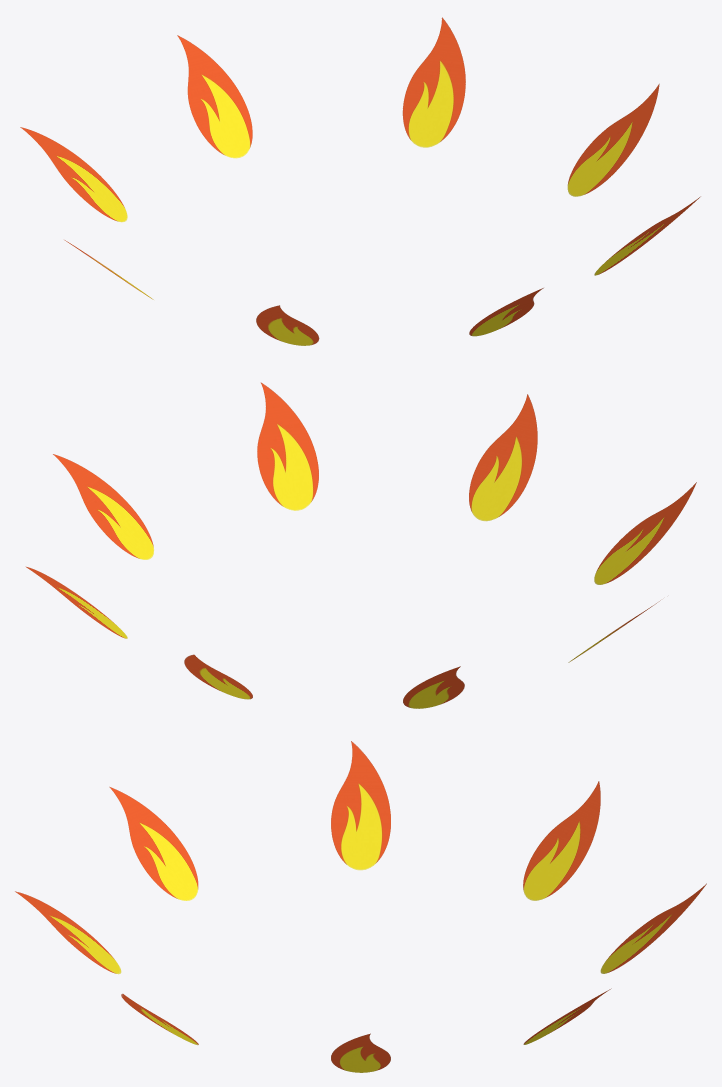
File: SM_Flame.fbx
3 renders of one model, top to bottom at view 1: azimuth 30°, elevation 25°; view 2: azimuth 150°, elevation 25°; view 3: azimuth 270°, elevation 25°, orthographic.
Parts seen in each view (by area): view 1: SM_Flame; view 2: SM_Flame; view 3: SM_Flame.
Boxes of the visible parts, x1,y1,x2,y2 form: SM_Flame: (20, 17, 700, 345); SM_Flame: (25, 382, 696, 708); SM_Flame: (15, 741, 706, 1072).
Bounding box in the file's own units: 108 × 14.58 × 108.
